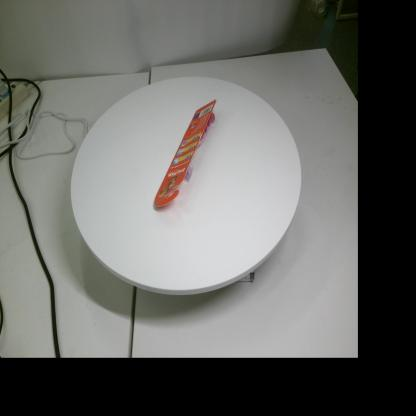Personal Hygiene: (154, 99, 217, 207)
